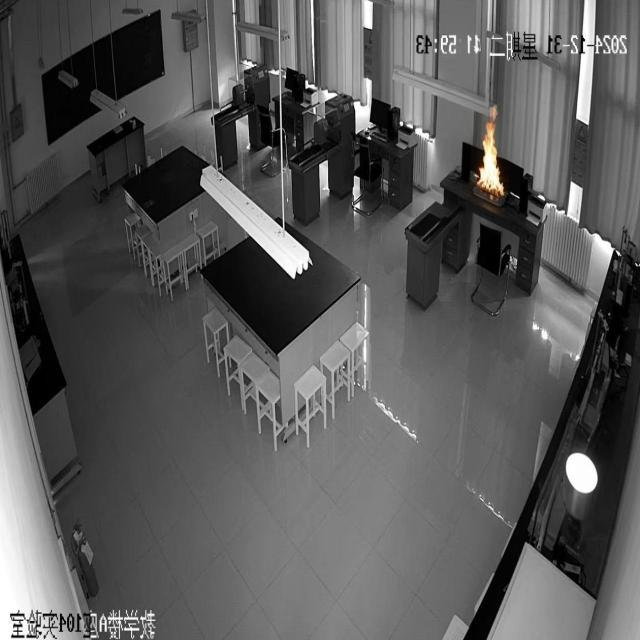smoke: (473, 108, 508, 198)
